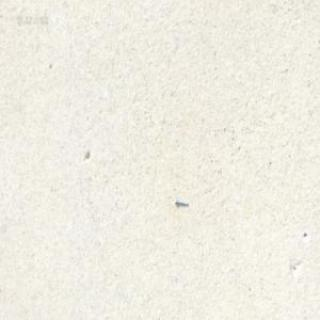Nailtrack_idkeyframe: (174, 197, 187, 206)
